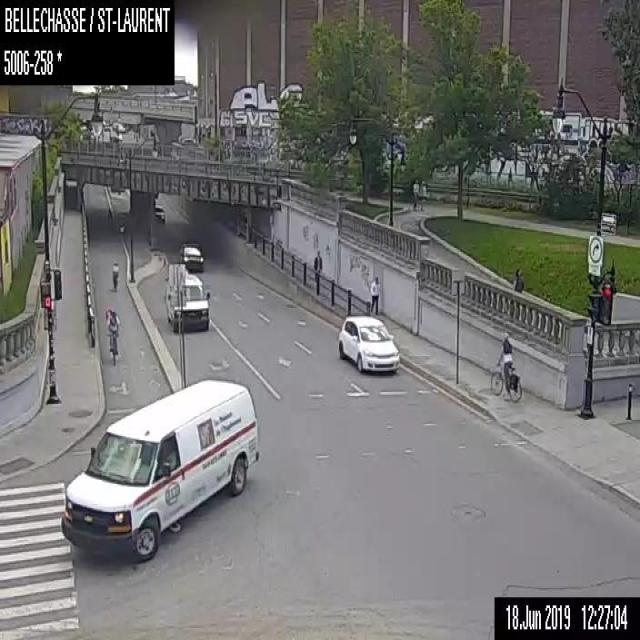cyclist: (490, 331, 522, 401), (105, 308, 119, 364), (112, 262, 118, 290)
pedestrian: (369, 275, 378, 312), (512, 267, 524, 291), (411, 178, 419, 210), (313, 248, 322, 276), (418, 180, 424, 209)
vehicle: (60, 377, 258, 560), (336, 315, 399, 372), (165, 273, 209, 332), (180, 242, 203, 272), (154, 204, 164, 223)
